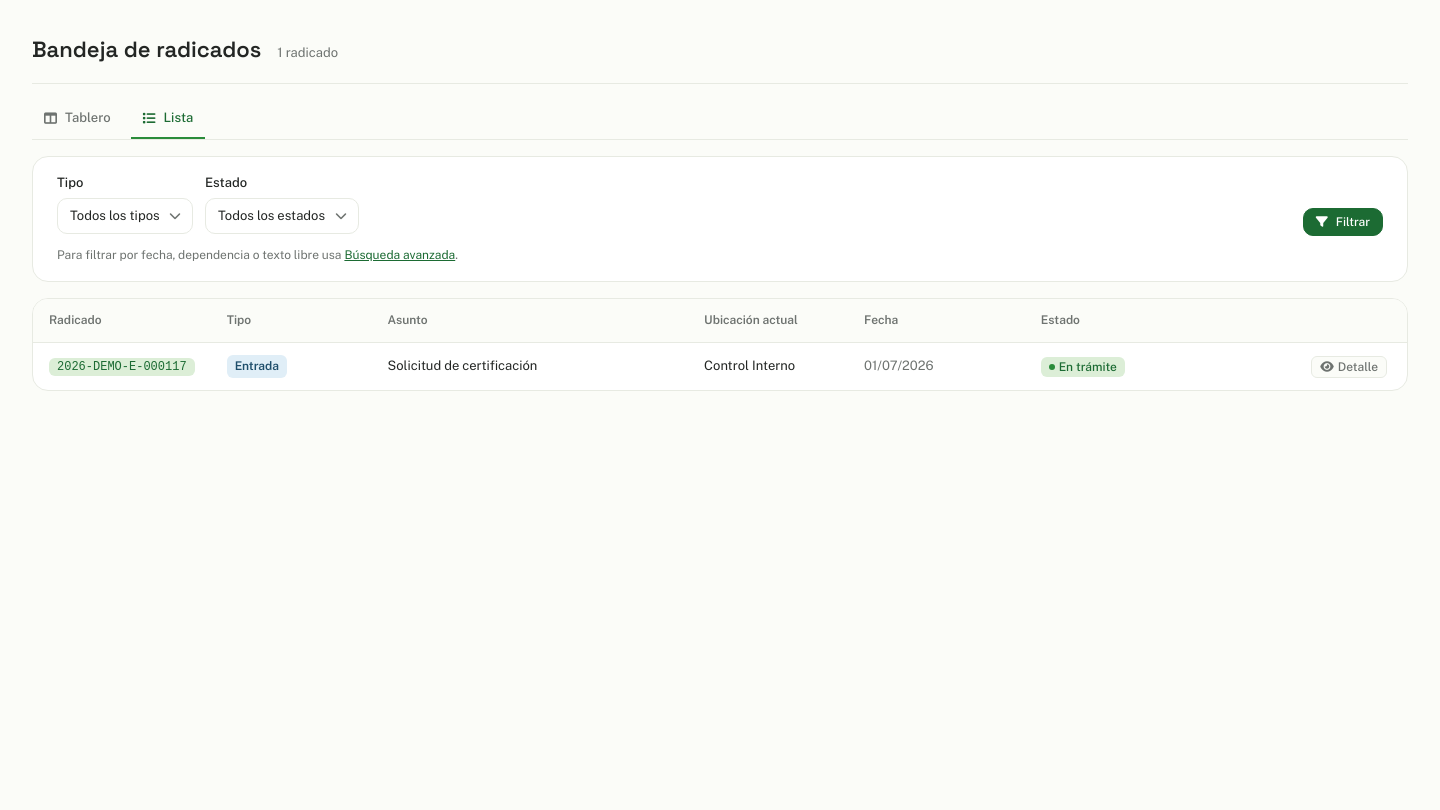
/bandeja — detalle › «Ubicación actual» con responsable, y «Dependencia de radicación» aparte
expect the text "2026-DEMO-E-000117" is shown: met, box [49,358,195,376]
Click the button "Detalle". click: (1349, 367)
box: [1311,356,1387,378]
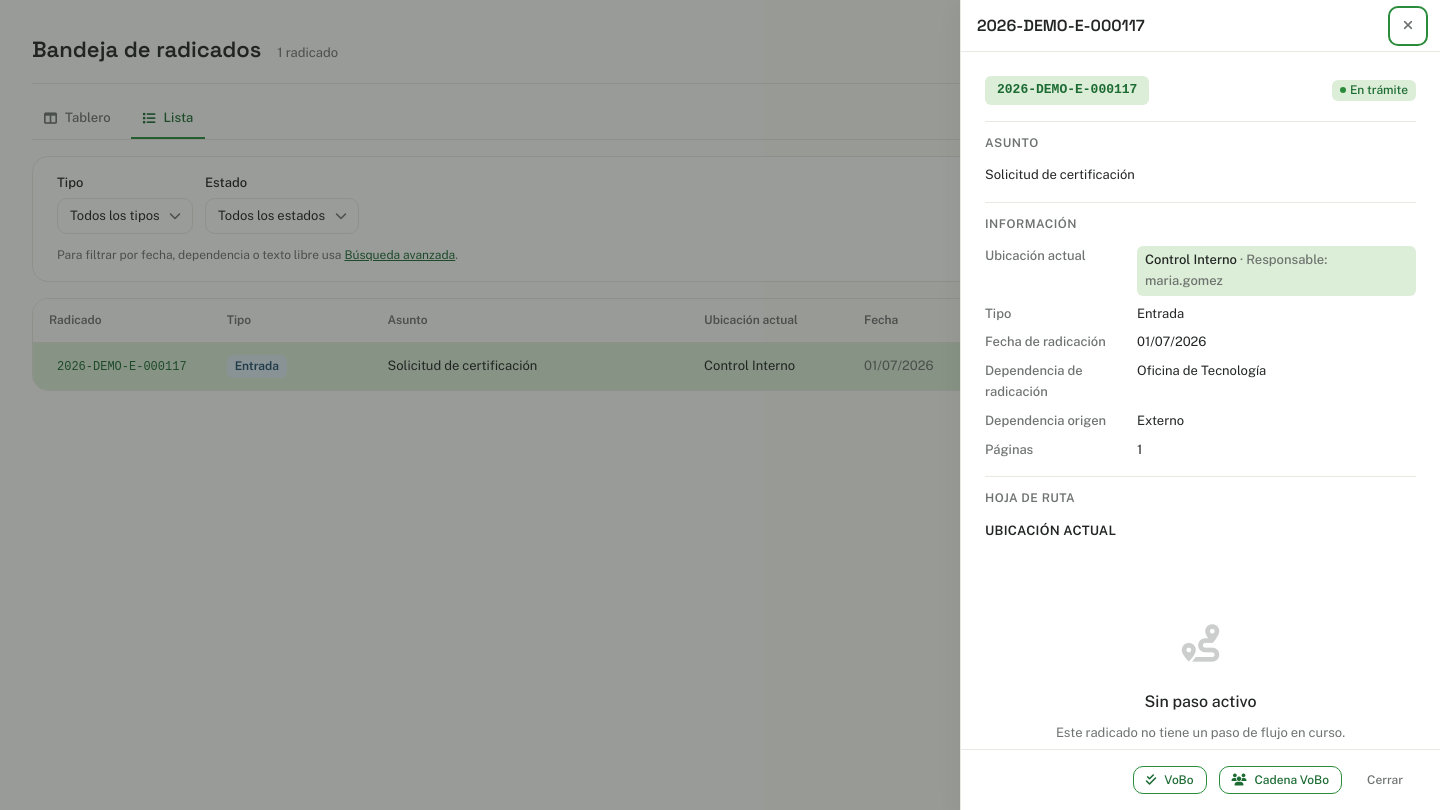
expect the element with class "doc-detail" is shown: met, box [985,76,1416,749]
expect the element with test id "detalle-ubicacion-actual" shows "Control Interno": met, box [1145,252,1237,267]
expect the element with test id "detalle-ubicacion-actual" shows "Responsable: maria.gomez": met, box [1145,252,1327,288]
